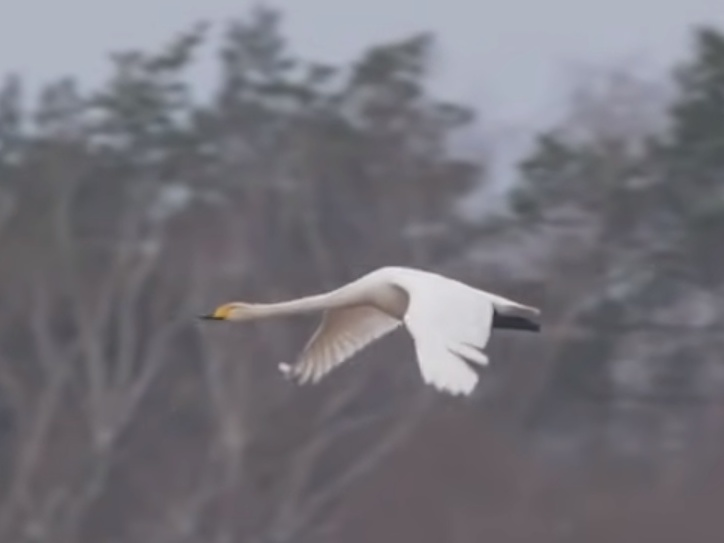bird: (191, 267, 548, 399)
